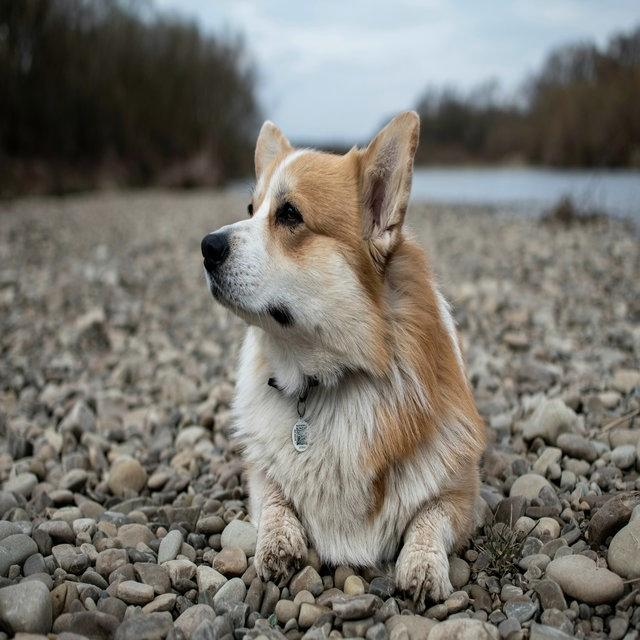corgi: (200, 108, 489, 605)
